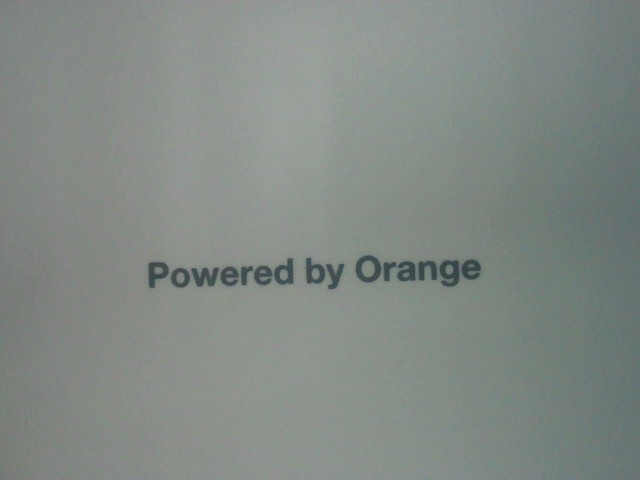AS_PowerByOrange: (137, 253, 487, 303)
